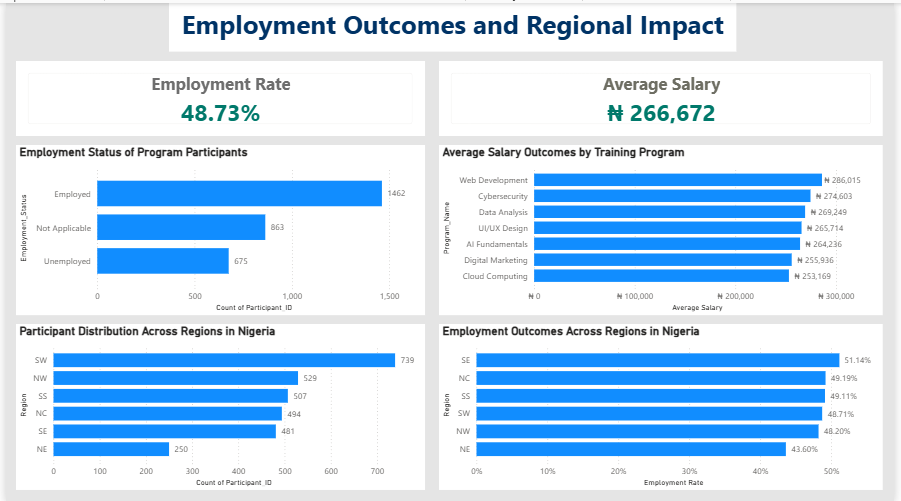

This screenshot's page, from the dashboard's own definition file:
{"tool":"powerbi","page":{"name":"Employment Outcomes & Regional Impact","canvas":[1280,720],"ordinal":2},"visuals":[{"type":"textbox","box":[234.8,0,817.4,69.6],"z":0},{"type":"cardVisual","fields":{"Data":["DAX_Measures.Employment Rate"]},"box":[14.4,83.5,589,108],"z":1000},{"type":"cardVisual","fields":{"Data":["DAX_Measures.Average Salary"]},"box":[623.5,83.5,639.4,108],"z":2000},{"type":"clusteredBarChart","title":"Employment Status of Program Participants","fields":{"Category":["Employment_Outcomes.Employment_Status"],"Y":["CountNonNull(Participants.Participant_ID)"]},"box":[14.4,204.5,589,244.8],"z":3000},{"type":"clusteredBarChart","title":"Average Salary Outcomes by Training Program","fields":{"Category":["Programs.Program_Name"],"Y":["DAX_Measures.Average Salary"]},"box":[623.5,204.5,639.4,244.8],"z":5000},{"type":"clusteredBarChart","title":"Employment Outcomes Across Regions in Nigeria","fields":{"Category":["Participants.Region"],"Y":["DAX_Measures.Employment Rate"]},"box":[623.5,462.2,639.4,239],"z":6000},{"type":"clusteredBarChart","title":"Participant Distribution Across Regions in Nigeria","fields":{"Category":["Social_Indicators.Region"],"Y":["CountNonNull(Participants.Participant_ID)"]},"box":[14.4,462.2,589,239],"z":7000}]}

Visuals, with their boxes in screenshot pixels (x1, y1, x2, y2), scaled from the page's 1280x720 canvas onto the 901x501 screenshot:
textbox: 165, 0, 741, 48
cardVisual - DAX_Measures.Employment Rate: 10, 58, 425, 133
cardVisual - DAX_Measures.Average Salary: 439, 58, 889, 133
"Employment Status of Program Participants" clusteredBarChart: 10, 142, 425, 313
"Average Salary Outcomes by Training Program" clusteredBarChart: 439, 142, 889, 313
"Employment Outcomes Across Regions in Nigeria" clusteredBarChart: 439, 322, 889, 488
"Participant Distribution Across Regions in Nigeria" clusteredBarChart: 10, 322, 425, 488
